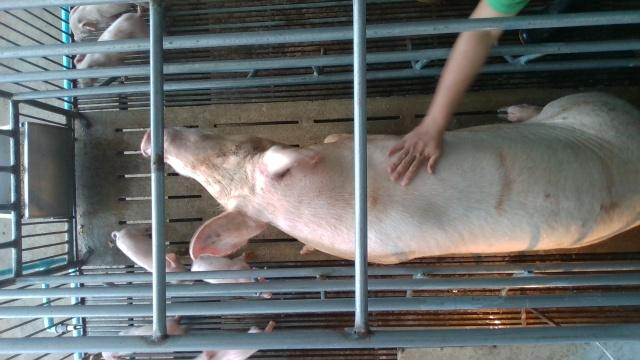piglet: (74, 5, 150, 87), (111, 226, 194, 285), (190, 255, 271, 298), (70, 3, 150, 42)
sow-sit: (139, 93, 640, 259)
